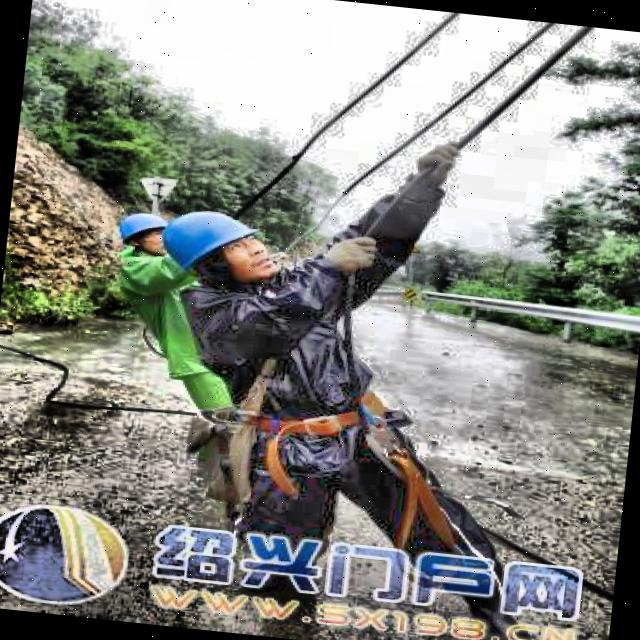helmet: (148, 200, 284, 294), (108, 207, 175, 264)
